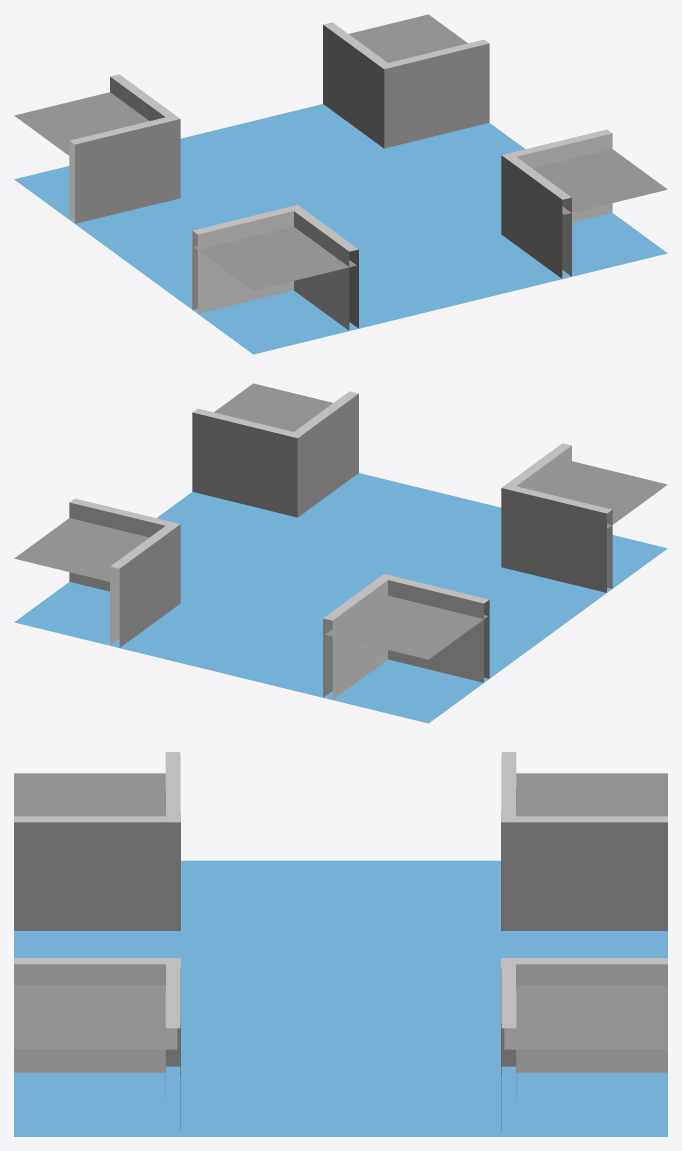
File: River_Tile_3.fbx
The picture shows the model from 3 angles, top to bottom: view 1: azimuth 30°, elevation 25°; view 2: azimuth 150°, elevation 25°; view 3: azimuth 270°, elevation 25°; orthographic projection. The views are drawn at different scales.
Parts seen in each view (by area): view 1: River_Tile_3; view 2: River_Tile_3; view 3: River_Tile_3.
Boxes of the visible parts, x1=… form: River_Tile_3: x1=14, y1=14, x2=667, y2=354; River_Tile_3: x1=14, y1=383, x2=667, y2=723; River_Tile_3: x1=14, y1=752, x2=667, y2=1136.
Bounding box in the file's own units: 4 × 0.7315 × 4.
